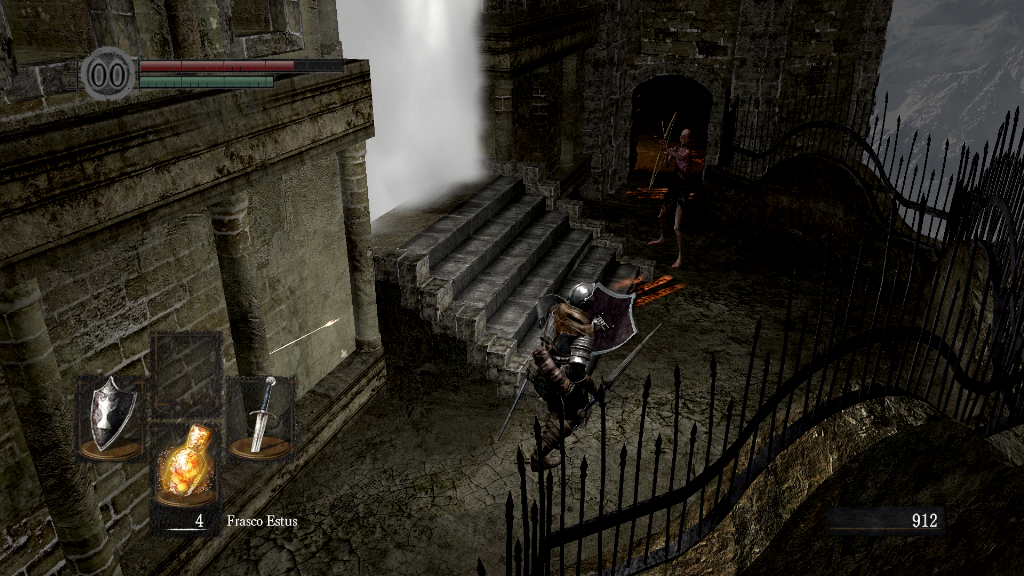health: (138, 58, 343, 71)
hollow: (653, 114, 692, 274)
humanity: (80, 45, 136, 102)
player: (497, 281, 663, 465)
souls: (825, 506, 945, 536)
stamina: (138, 74, 274, 88)
